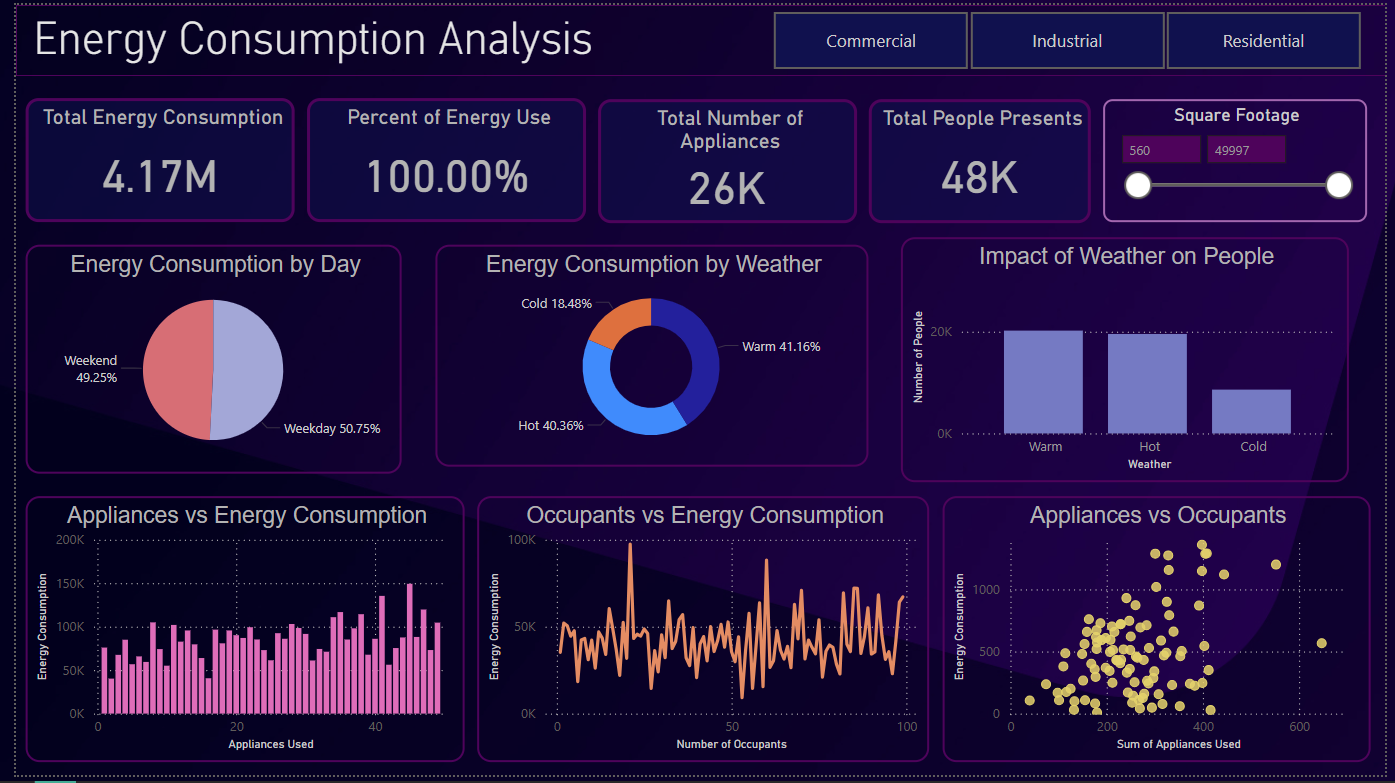

The page's visual inventory and layout, read from the dashboard file:
{"tool":"powerbi","page":{"name":"Page 1","canvas":[1280,720],"ordinal":0},"visuals":[{"type":"textbox","box":[0,0,1280.9,66.7],"z":0},{"type":"slicer","fields":{"Values":["energy_data.Building Type"]},"box":[682.9,0,597.9,66.7],"z":1000},{"type":"card","title":"Total Energy Consumption","fields":{"Values":["Sum(energy_data.Energy Consumption)"]},"box":[8.8,87.1,252.3,115.7],"z":2000},{"type":"card","title":"Total People Presents","fields":{"Values":["Sum(energy_data.Number of Occupants)"]},"box":[796.7,88.2,208.3,115.7],"z":3000},{"type":"card","title":"Total Number of Appliances","fields":{"Values":["Sum(energy_data.Appliances Used)"]},"box":[544.4,88.2,241.3,115.7],"z":4000},{"type":"card","title":"Percent of Energy Use","fields":{"Values":["energy_data.Measure"]},"box":[272.2,87.1,261.1,115.7],"z":5000},{"type":"pieChart","title":"Energy Consumption by Day","fields":{"Category":["energy_data.Day of Week"],"Y":["Sum(energy_data.Energy Consumption)"]},"box":[8.9,224.4,352.2,213.3],"z":6000},{"type":"slicer","title":"Square Footage","fields":{"Values":["energy_data.Square Footage"]},"box":[1015.6,87.8,247.8,115.5],"z":7000},{"type":"donutChart","title":"Energy Consumption by Weather","fields":{"Category":["energy_data.Weather"],"Y":["Sum(energy_data.Energy Consumption)"]},"box":[392.2,224.4,404.4,207.8],"z":8000},{"type":"clusteredColumnChart","title":"Appliances vs Energy Consumption","fields":{"Category":["energy_data.Appliances Used"],"Y":["Sum(energy_data.Energy Consumption)"]},"box":[8.9,458.9,411.1,248.9],"z":9000},{"type":"lineChart","title":"Occupants vs Energy Consumption","fields":{"Y":["Sum(energy_data.Energy Consumption)"],"Category":["energy_data.Number of Occupants"]},"box":[431.1,458.9,423.3,248.9],"z":10000},{"type":"lineClusteredColumnComboChart","title":"Impact of Weather on People","fields":{"Category":["energy_data.Weather"],"Y":["Sum(energy_data.Number of Occupants)"]},"box":[826.7,216.7,418.9,228.9],"z":10001},{"type":"scatterChart","title":"Appliances vs Occupants","fields":{"X":["Sum(energy_data.Appliances Used)"],"Y":["Sum(energy_data.Number of Occupants)"],"Category":["energy_data.Number of Occupants"]},"box":[865.6,458.9,400,248.9],"z":10002}]}

Visuals, with their boxes in screenshot pixels (x1, y1, x2, y2), scaled from the page's 1280x720 canvas onto the 1395x783 screenshot:
textbox: 0,0,1394,73
slicer - energy_data.Building Type: 744,0,1394,73
"Total Energy Consumption" card: 10,95,285,221
"Total People Presents" card: 868,96,1095,222
"Total Number of Appliances" card: 593,96,856,222
"Percent of Energy Use" card: 297,95,581,221
"Energy Consumption by Day" pieChart: 10,244,394,476
"Square Footage" slicer: 1107,95,1377,221
"Energy Consumption by Weather" donutChart: 427,244,868,470
"Appliances vs Energy Consumption" clusteredColumnChart: 10,499,458,770
"Occupants vs Energy Consumption" lineChart: 470,499,931,770
"Impact of Weather on People" lineClusteredColumnComboChart: 901,236,1358,485
"Appliances vs Occupants" scatterChart: 943,499,1379,770
